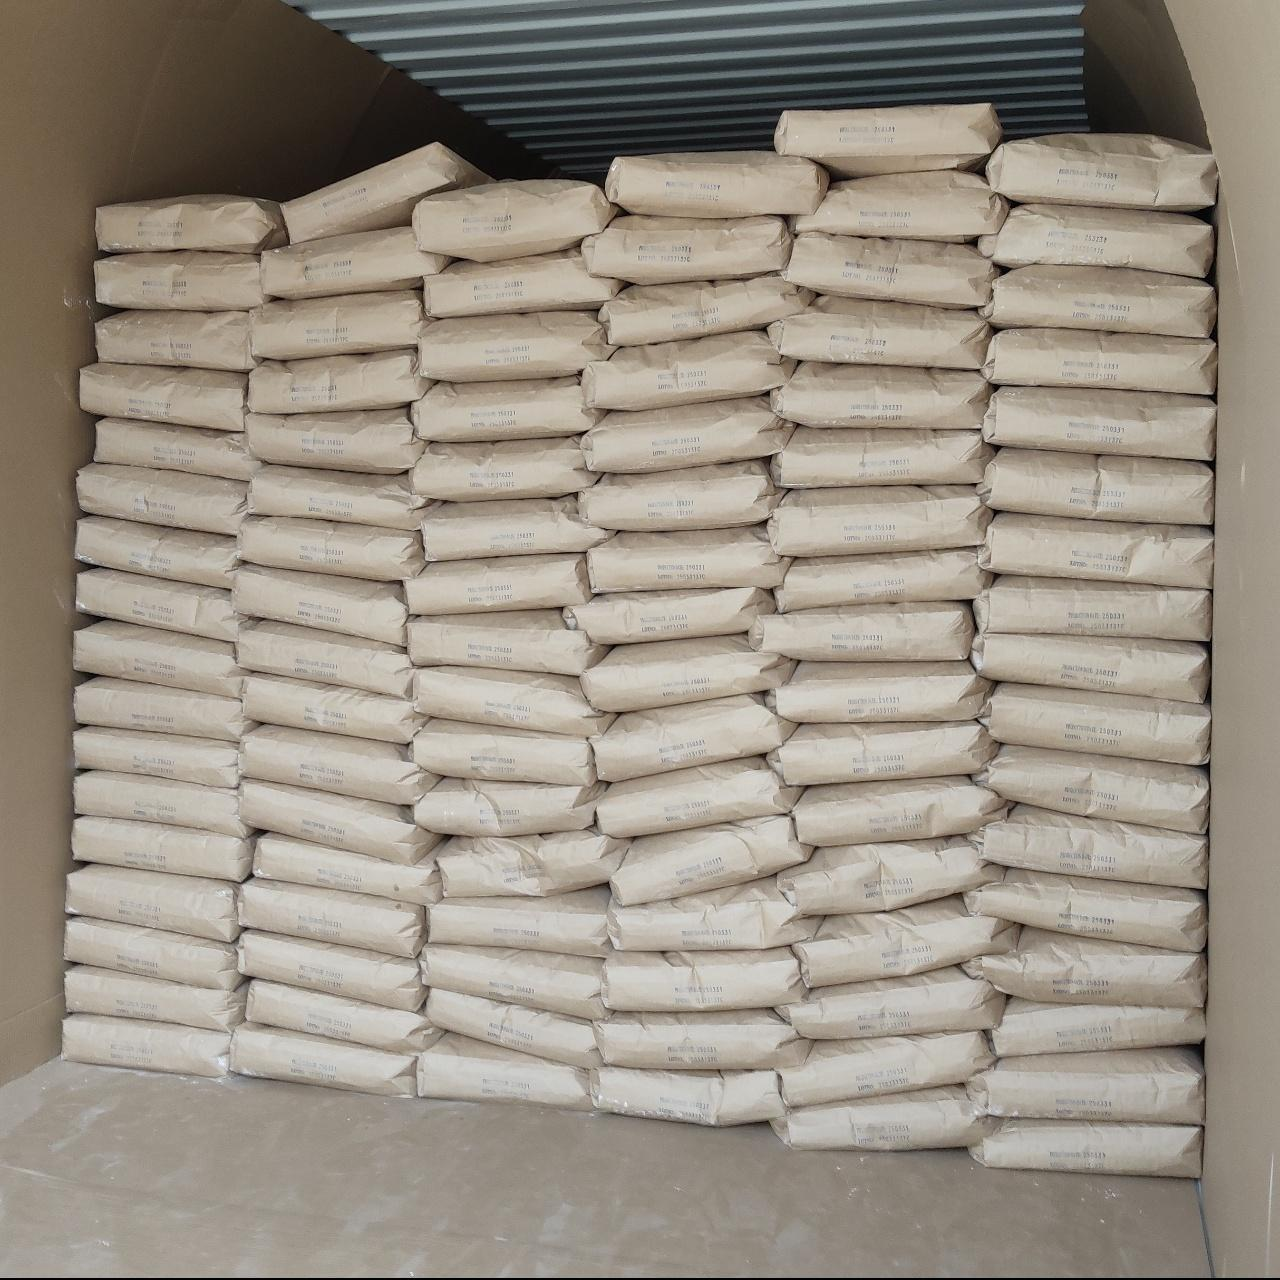sack: (281, 142, 490, 241), (974, 745, 1208, 832), (964, 869, 1207, 951), (971, 804, 1207, 888), (794, 897, 1013, 987), (967, 926, 1207, 1007), (980, 683, 1208, 764), (967, 1047, 1203, 1122), (986, 134, 1217, 210), (980, 513, 1213, 588), (983, 447, 1212, 523), (775, 837, 998, 914), (591, 695, 795, 779), (612, 817, 810, 904), (983, 386, 1216, 459), (982, 265, 1216, 338), (978, 205, 1213, 277), (581, 331, 796, 409), (411, 181, 617, 261), (240, 779, 438, 863), (779, 966, 1005, 1039), (774, 104, 1001, 176), (597, 757, 801, 837), (971, 633, 1207, 701), (779, 1032, 994, 1107), (781, 233, 998, 307), (581, 636, 794, 712), (771, 297, 990, 368), (607, 876, 818, 949), (769, 486, 992, 556), (583, 397, 788, 472), (240, 726, 436, 804), (982, 328, 1216, 394), (791, 171, 1008, 241), (974, 576, 1210, 640), (599, 274, 812, 345), (792, 776, 1006, 846), (237, 930, 423, 1009), (769, 720, 998, 784), (238, 878, 424, 956), (606, 151, 829, 217), (769, 362, 990, 428), (583, 215, 791, 284), (772, 1085, 993, 1150), (231, 1022, 418, 1097), (425, 987, 601, 1067), (421, 944, 610, 1017), (411, 666, 610, 736), (767, 661, 990, 723), (247, 980, 438, 1053), (425, 248, 626, 318), (776, 549, 993, 612), (232, 565, 407, 644), (260, 226, 449, 299), (579, 461, 777, 530), (418, 311, 613, 381), (772, 425, 994, 486), (587, 527, 790, 593), (236, 621, 410, 697), (74, 621, 248, 697), (971, 1121, 1201, 1178), (66, 865, 239, 941), (417, 1033, 592, 1108), (602, 947, 805, 1012), (252, 833, 441, 903), (408, 610, 606, 675), (64, 917, 240, 990), (436, 830, 629, 897), (749, 602, 973, 660), (592, 1010, 809, 1069), (992, 998, 1204, 1057), (244, 674, 427, 743), (428, 886, 611, 955), (421, 496, 613, 560), (411, 377, 605, 441), (250, 291, 427, 360), (77, 463, 247, 535), (77, 568, 247, 640), (244, 407, 425, 474), (75, 516, 241, 588), (413, 719, 595, 784), (247, 465, 433, 530), (237, 516, 424, 579), (72, 816, 252, 881), (74, 771, 251, 838), (588, 1065, 785, 1125), (411, 437, 597, 501), (66, 966, 247, 1030), (248, 349, 433, 413), (75, 678, 253, 742), (403, 553, 591, 614), (80, 363, 247, 431), (573, 587, 772, 644), (96, 195, 287, 252), (415, 778, 605, 836), (62, 1014, 231, 1076), (94, 418, 260, 481), (74, 727, 238, 788), (95, 251, 265, 309), (95, 311, 254, 372)
